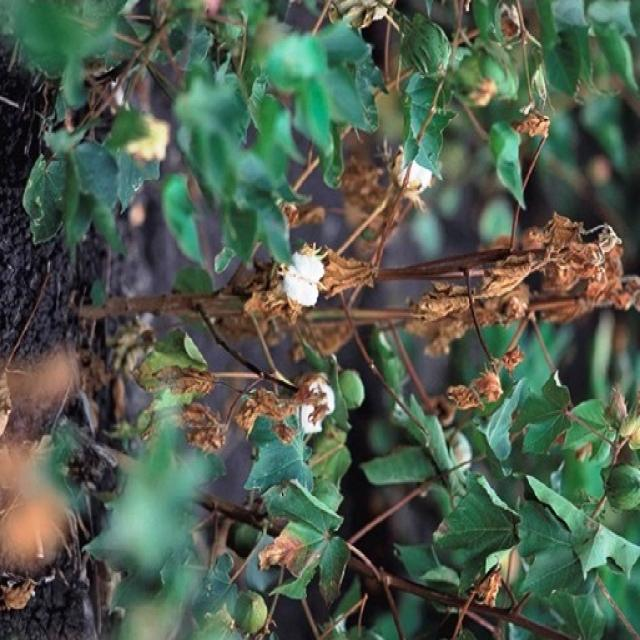Fusarium Wilt: (27, 1, 636, 640)
